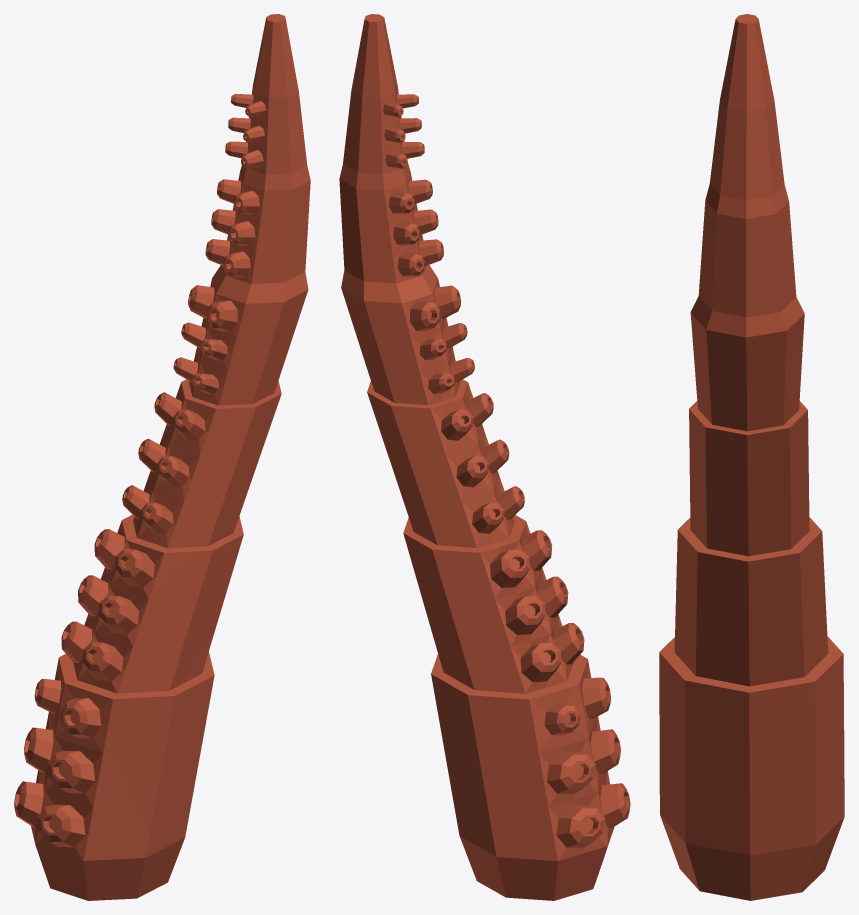
Rendered from static tentacle.fbx.
The picture shows the model from 3 angles, left to right: view 1: azimuth 30°, elevation 25°; view 2: azimuth 150°, elevation 25°; view 3: azimuth 270°, elevation 25°; orthographic projection. The views are drawn at different scales.
Visible parts, largest first — view 1: evil tentacle.001; view 2: evil tentacle.001; view 3: evil tentacle.001.
Boxes of the visible parts, x1,y1,x2,y2 form: evil tentacle.001: [14, 14, 310, 900]; evil tentacle.001: [339, 14, 630, 900]; evil tentacle.001: [659, 14, 844, 900].
Bounding box in the file's own units: 950 × 2696 × 480.
